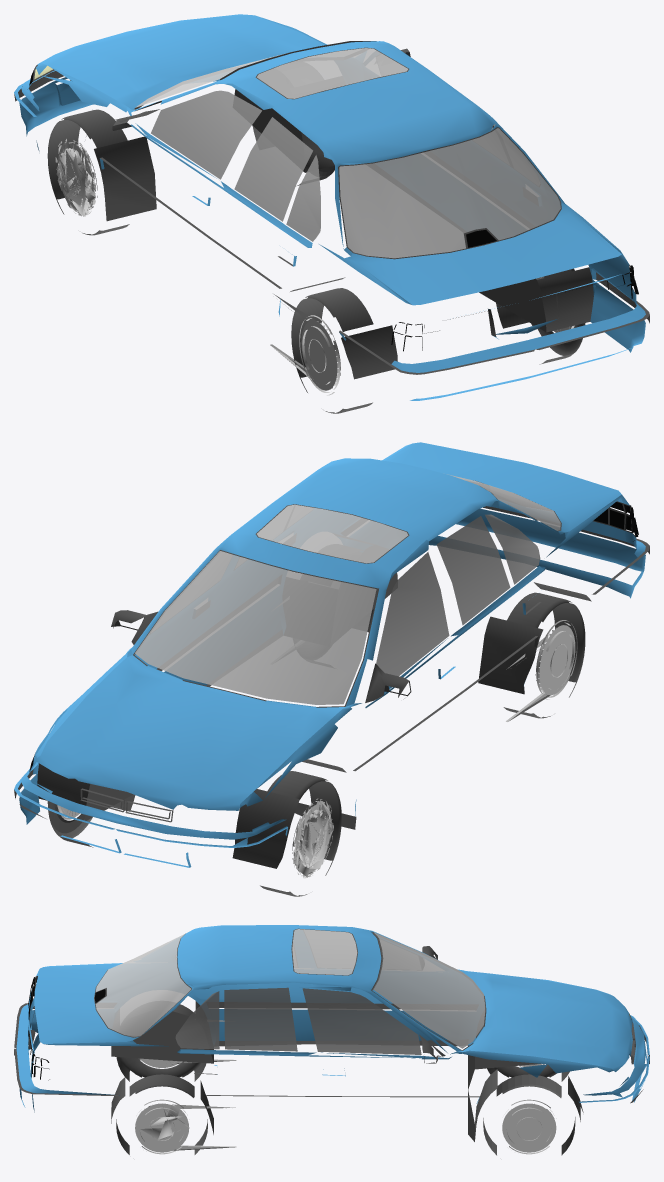
Rendered from car2.gltf.
3 views of the same model, one above another, from view 1: azimuth 30°, elevation 25°; view 2: azimuth 150°, elevation 25°; view 3: azimuth 270°, elevation 25° (orthographic). The views are drawn at different scales.
Visible parts, largest first — view 1: Civic_body, Civic_LR_Wheel, Civic_LF_Wheel, Civic_RR_Wheel; view 2: Civic_body, Civic_LR_Wheel, Civic_LF_Wheel, Civic_RF_Wheel; view 3: Civic_body, Civic_RR_Wheel, Civic_RF_Wheel, Civic_LR_Wheel, Civic_LF_Wheel.
Boxes of the visible parts, <box> form: Civic_body: <box>14,14,649,400</box>; Civic_LR_Wheel: <box>270,288,373,413</box>; Civic_LF_Wheel: <box>47,109,129,235</box>; Civic_RR_Wheel: <box>496,268,585,364</box>; Civic_body: <box>14,442,649,868</box>; Civic_LR_Wheel: <box>503,592,585,721</box>; Civic_LF_Wheel: <box>260,771,341,896</box>; Civic_RF_Wheel: <box>47,794,135,847</box>; Civic_body: <box>14,925,649,1141</box>; Civic_RR_Wheel: <box>116,1074,236,1154</box>; Civic_RF_Wheel: <box>483,1074,575,1155</box>; Civic_LR_Wheel: <box>116,1004,236,1081</box>; Civic_LF_Wheel: <box>487,1063,569,1081</box>.
Bounding box in the file's own units: 1.91 × 1.46 × 4.76.
